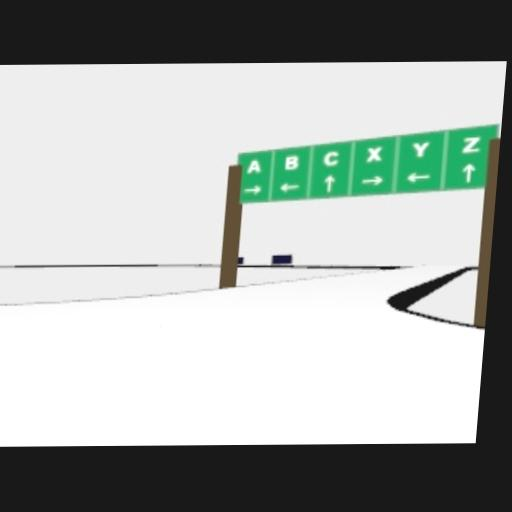A: (247, 159, 261, 175)
B: (284, 154, 298, 169)
C: (322, 151, 338, 166)
Left: (405, 172, 431, 184), (278, 183, 301, 193)
Right: (360, 175, 382, 185), (243, 185, 262, 195)
Straight: (461, 164, 476, 182), (321, 174, 335, 193)
X: (365, 145, 381, 162)
Y: (411, 141, 429, 156)
Z: (459, 136, 481, 153)
